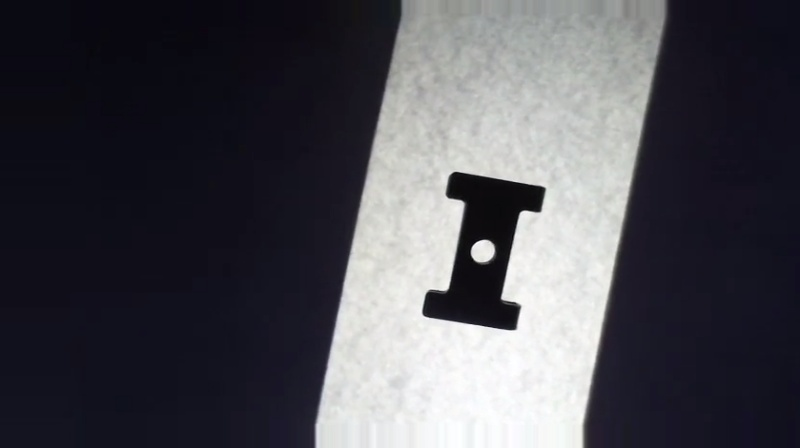O002: (418, 170, 550, 333)
